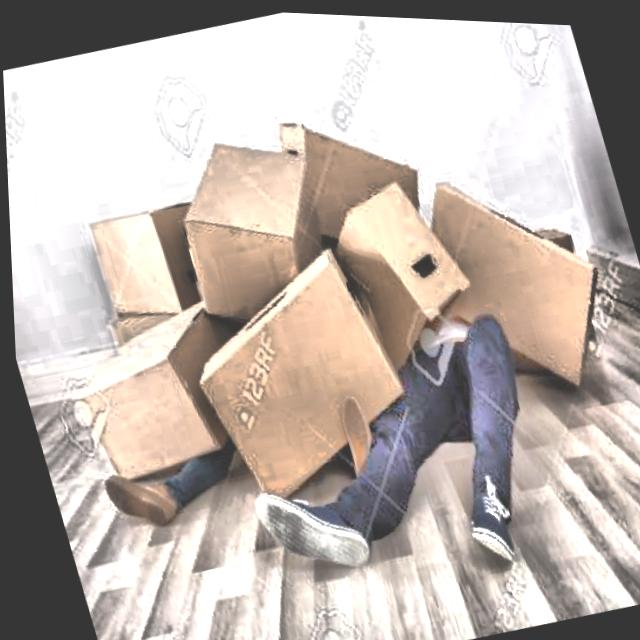Cardbox: (173, 224, 440, 508), (403, 120, 632, 431), (285, 131, 502, 409), (44, 280, 276, 499), (141, 110, 347, 336), (58, 176, 239, 344), (262, 96, 424, 257)
